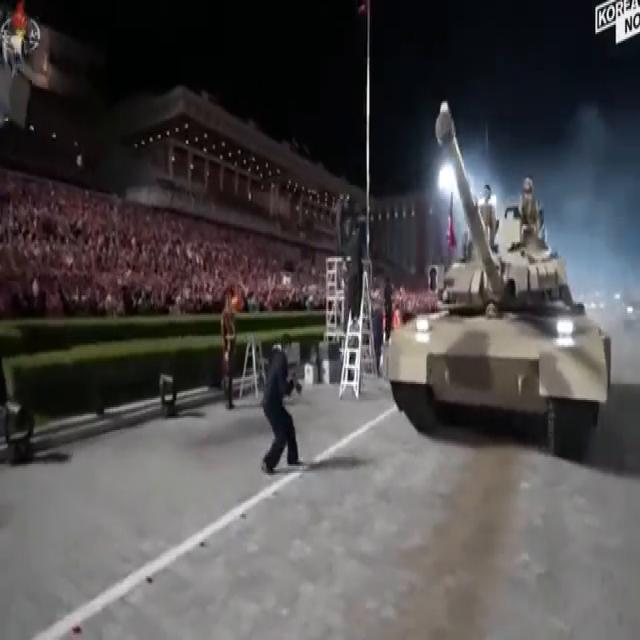north tank: (361, 104, 636, 490)
